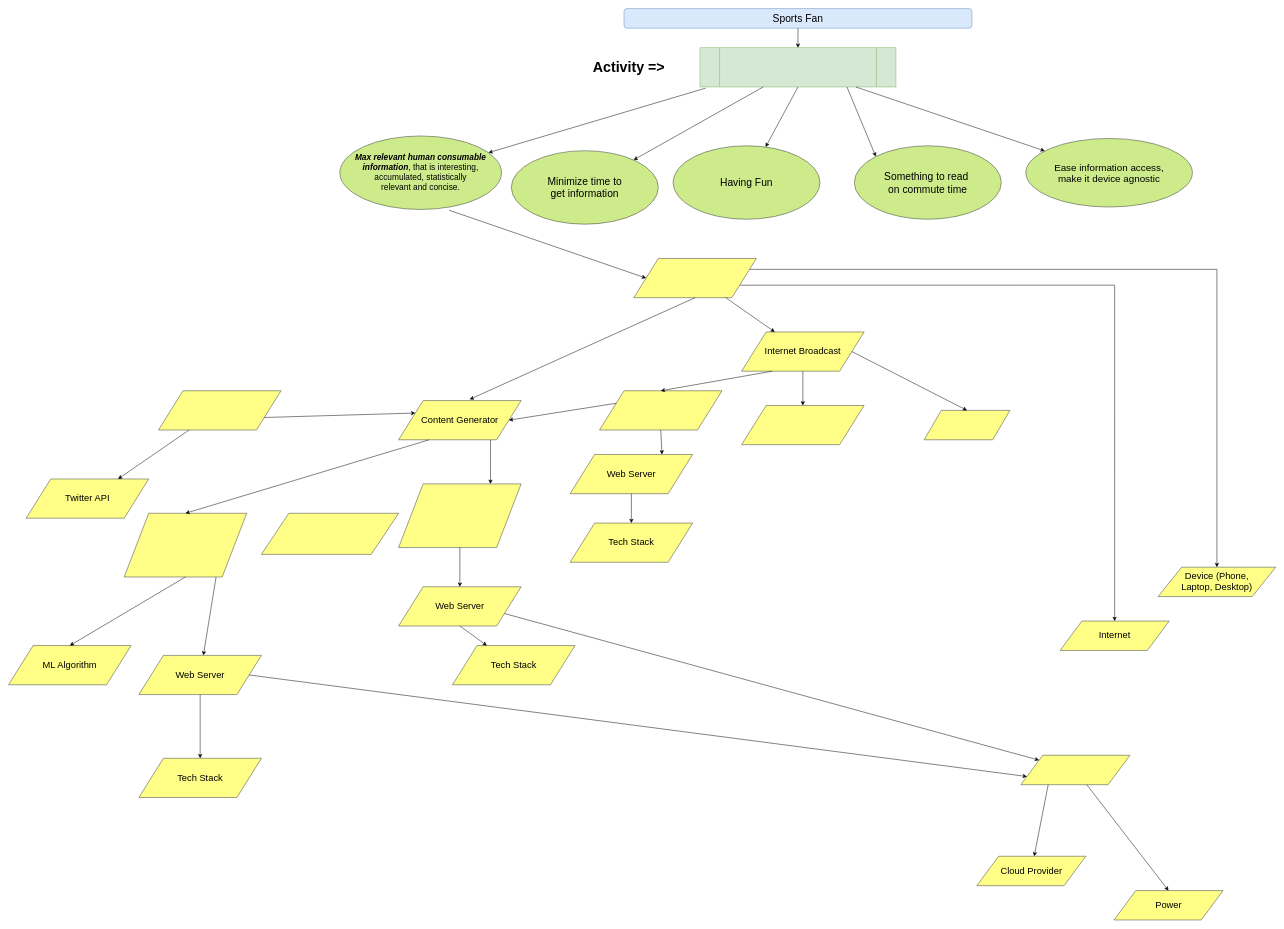
This 1284x929 diagram has some shape labels left out. The centre of each missing label's shape, as x and y in pixels:
"Chart Service" goes at pixel 459 515.
"Compute" goes at pixel 1075 770.
"Content" goes at pixel 694 278.
"Data feeding api (nba.com)" goes at pixel 330 533.
"Email" goes at pixel 967 425.
"Sentence ML Service" goes at pixel 185 545.
"Social Media ( Twitter )" goes at pixel 802 425.
"Track past games scores and stats" goes at pixel 797 67.
"Twitter Trending Bot" goes at pixel 219 410.
"Web app (getdailyscore.com)" goes at pixel 660 410.
